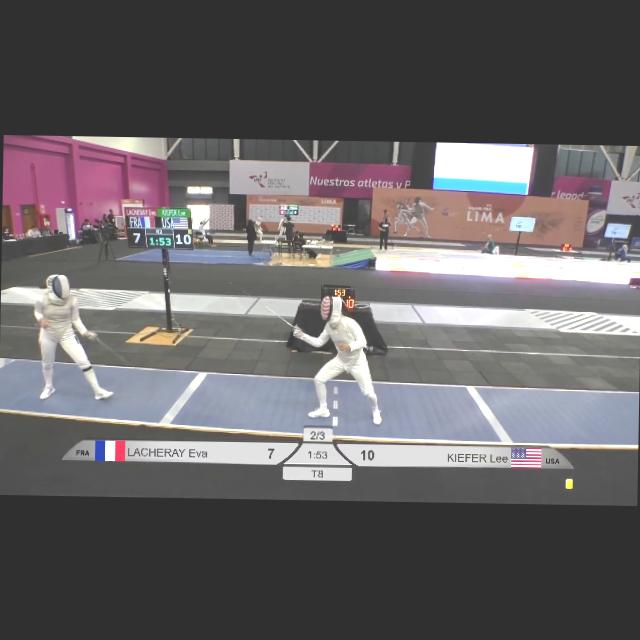blade: (226, 280, 302, 334), (87, 332, 140, 372)
